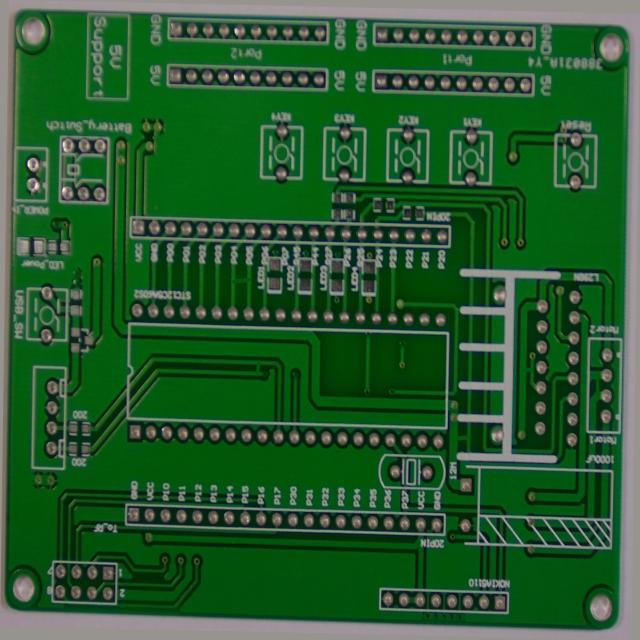short: (593, 365, 613, 397), (225, 272, 252, 293), (452, 428, 476, 449), (521, 357, 542, 377), (249, 360, 266, 381)
